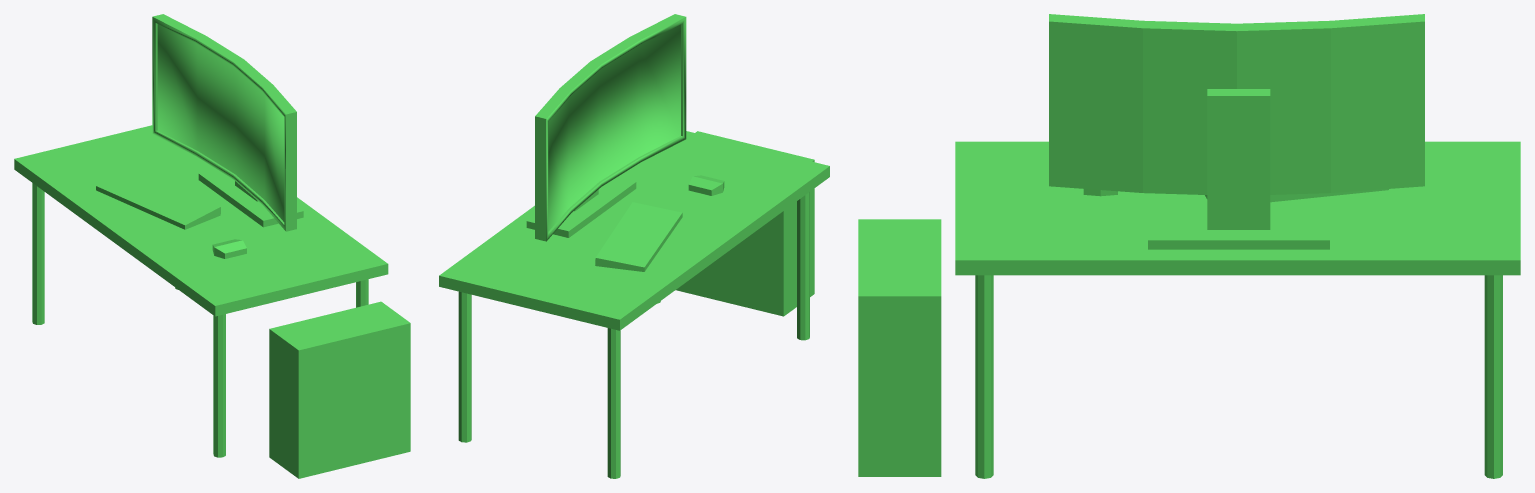
Rendered from DeskPC.fbx.
3 views of the same model, side by side, from view 1: azimuth 30°, elevation 25°; view 2: azimuth 150°, elevation 25°; view 3: azimuth 270°, elevation 25° (orthographic). The views are drawn at different scales.
Parts seen in each view (by area): view 1: Desk&PC; view 2: Desk&PC; view 3: Desk&PC.
Part boxes in pixels (<box>): Desk&PC: <box>14,14,410,478</box>; Desk&PC: <box>439,14,829,478</box>; Desk&PC: <box>858,14,1520,478</box>.
Bounding box in the file's own units: 49.34 × 82.3 × 116.
